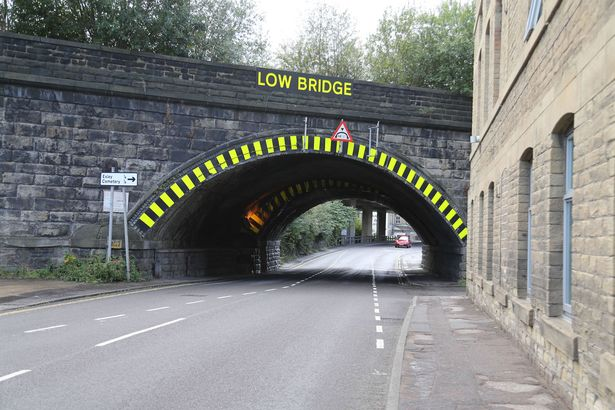bridge: (2, 29, 465, 249)
